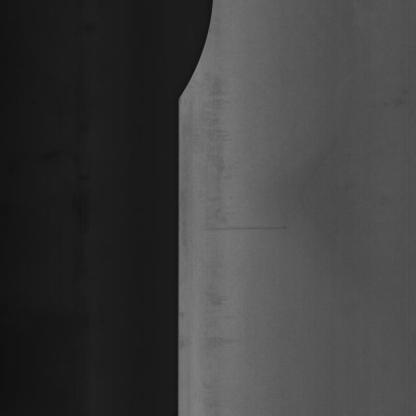crescent_gap: (171, 0, 232, 122)
